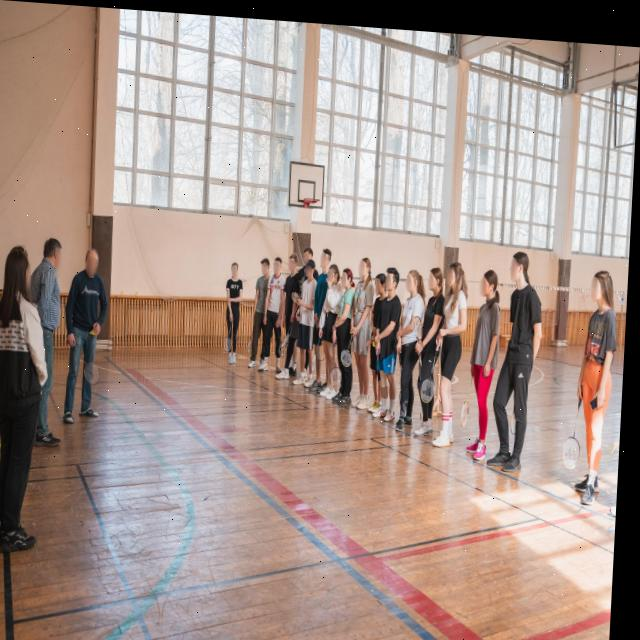Person: (559, 235, 627, 504), (492, 228, 550, 482), (0, 237, 45, 554), (62, 242, 119, 431), (464, 249, 509, 460), (30, 226, 71, 451), (435, 245, 475, 454), (416, 249, 450, 447), (393, 254, 429, 430), (377, 246, 406, 419), (355, 238, 381, 409), (335, 244, 359, 411), (297, 234, 321, 394), (321, 250, 346, 397), (279, 246, 305, 380), (223, 246, 252, 366), (314, 238, 336, 392), (263, 250, 290, 373), (250, 247, 276, 371), (372, 256, 389, 413)
